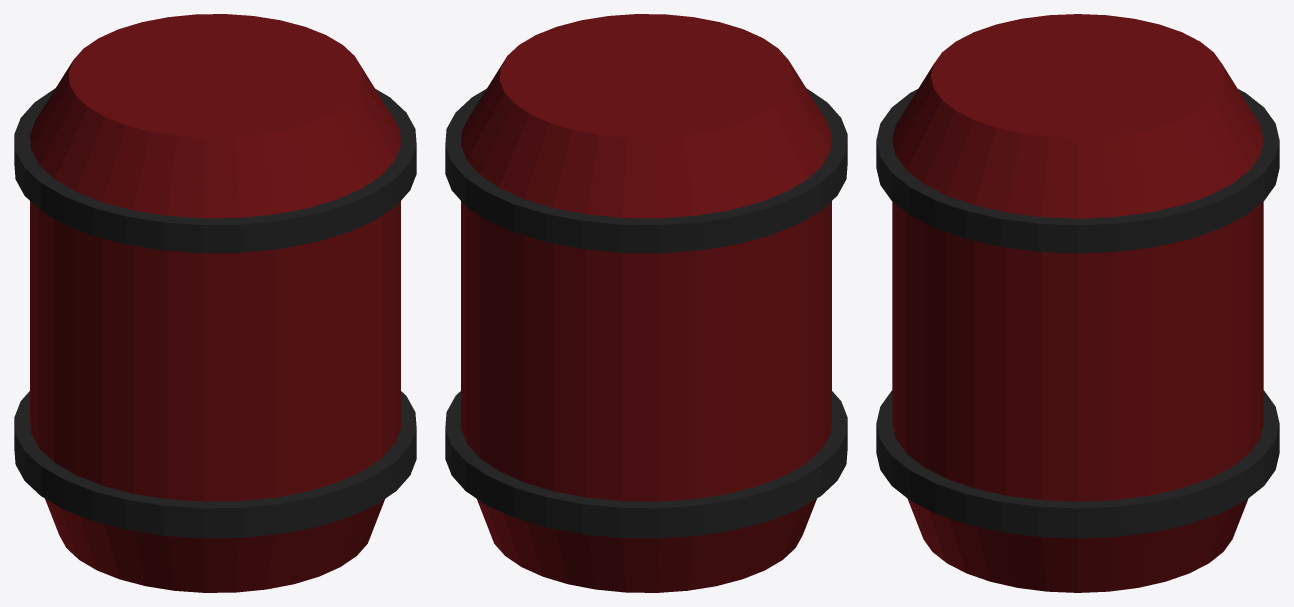
Rendered from Barrel.fbx.
3 views of the same model, side by side, from view 1: azimuth 30°, elevation 25°; view 2: azimuth 150°, elevation 25°; view 3: azimuth 270°, elevation 25° (orthographic).
Parts seen in each view (by area): view 1: Circle; view 2: Circle; view 3: Circle.
Boxes of the visible parts, x1,y1,x2,y2 form: Circle: (14,14,416,592); Circle: (445,14,847,592); Circle: (876,14,1279,592).
Size of the model in its own units: 2.56 by 3.15 by 2.56.
